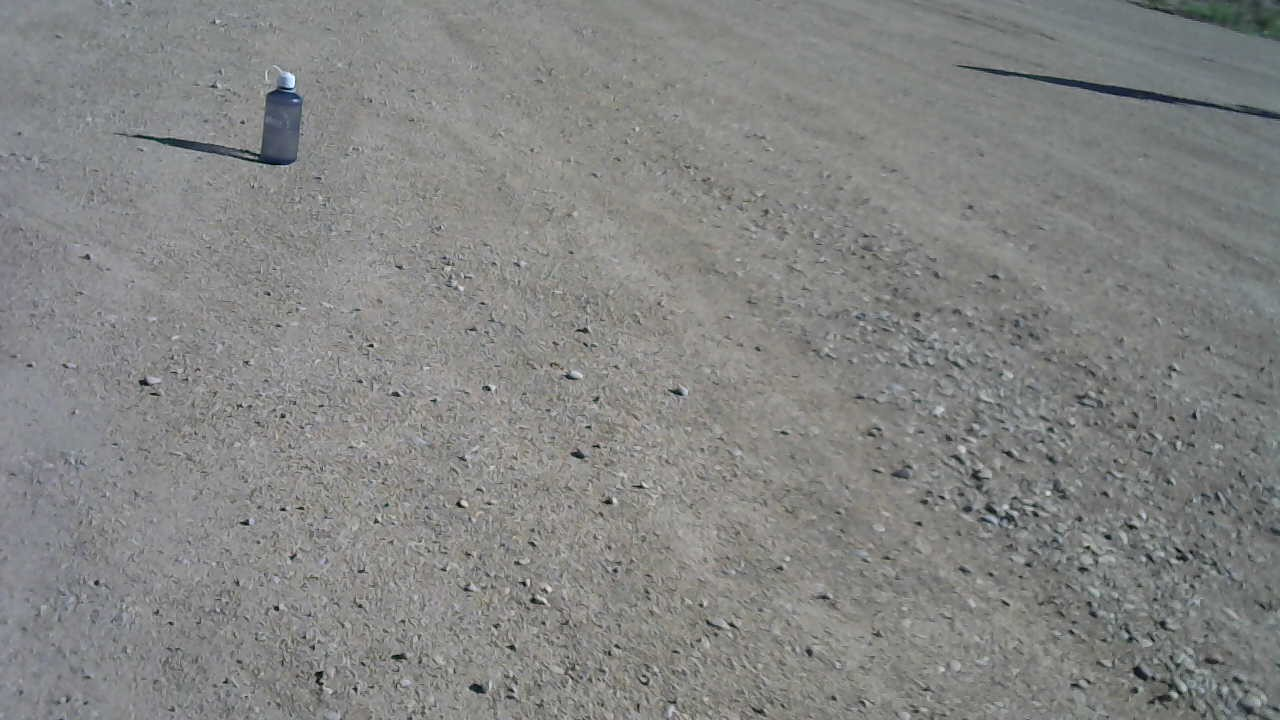bottle: (252, 62, 304, 171)
